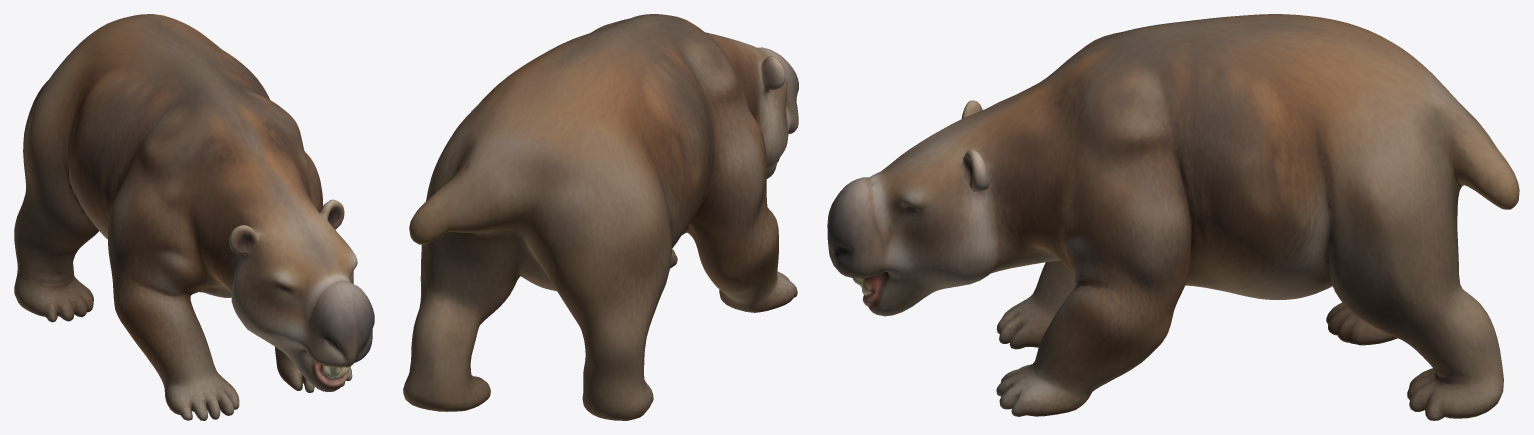
3 views of the same model, side by side, from view 1: azimuth 30°, elevation 25°; view 2: azimuth 150°, elevation 25°; view 3: azimuth 270°, elevation 25° (orthographic). The views are drawn at different scales.
Visible parts, largest first — view 1: world; view 2: world; view 3: world.
Boxes of the visible parts, x1,y1,x2,y2 form: world: (14, 14, 374, 420); world: (403, 14, 798, 420); world: (827, 14, 1519, 420).
Size of the model in its own units: 1.42 by 1.9 by 3.4.
Materials: 1 (1 with a texture image).
